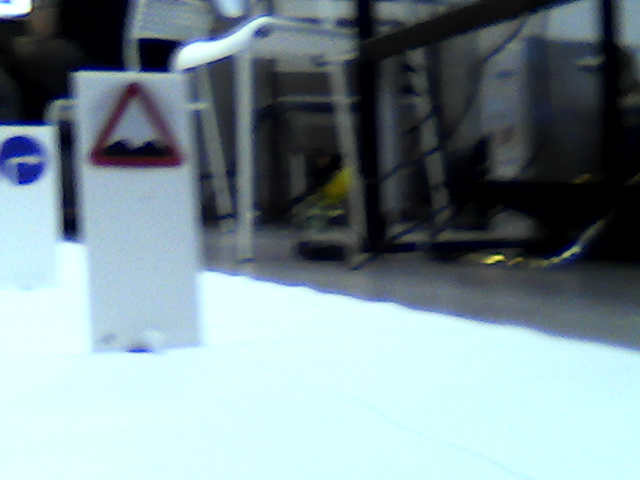Nerov: (89, 77, 181, 169)
